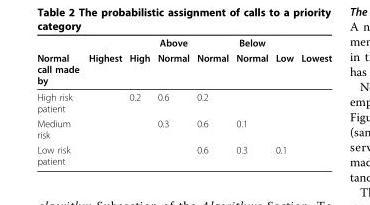table: (36, 36, 331, 166)
table column: (36, 36, 83, 166), (83, 36, 125, 166), (231, 36, 271, 166), (153, 36, 192, 166), (192, 36, 231, 166), (296, 36, 331, 166), (125, 36, 153, 166), (271, 36, 296, 166)
table column header: (36, 36, 331, 88)
table row: (36, 49, 331, 88), (36, 88, 331, 115), (36, 115, 331, 141), (36, 141, 331, 166), (36, 36, 331, 49)
table spanning cell: (36, 36, 83, 88), (83, 36, 125, 88), (231, 36, 271, 88), (153, 36, 192, 88), (192, 36, 231, 88), (296, 36, 331, 88), (125, 36, 153, 88), (271, 36, 296, 88)
